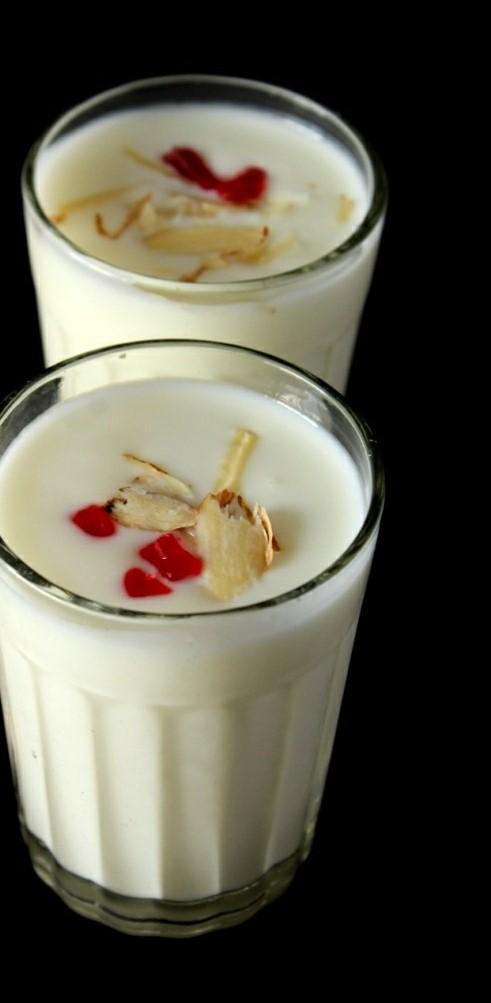Lassi: (0, 386, 367, 899), (27, 103, 367, 406)
